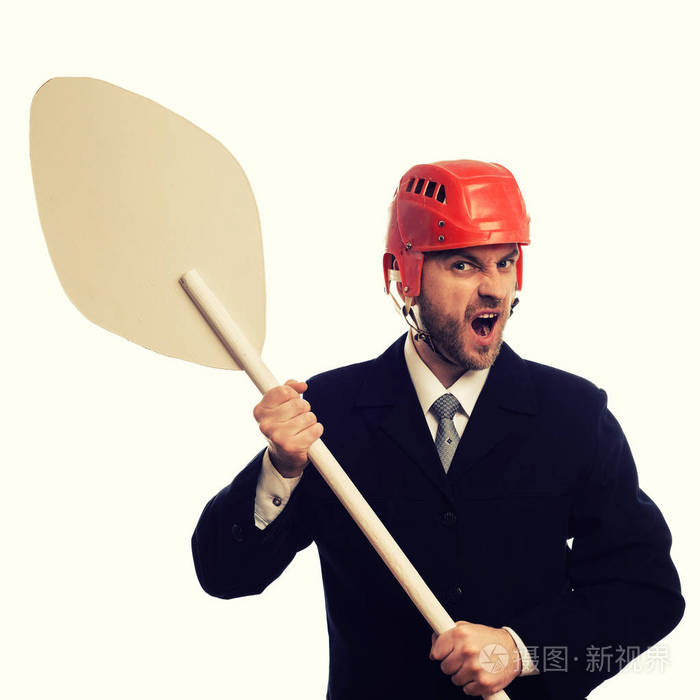no-phone: (194, 278, 335, 461), (397, 571, 519, 696)
